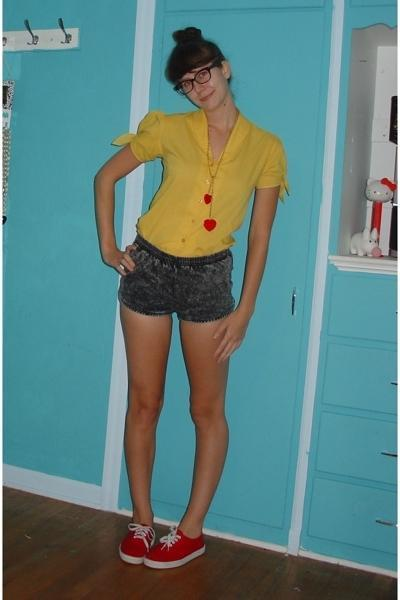shirt: (114, 112, 287, 257)
shoe: (120, 509, 203, 567)
shorts: (118, 228, 244, 322)
